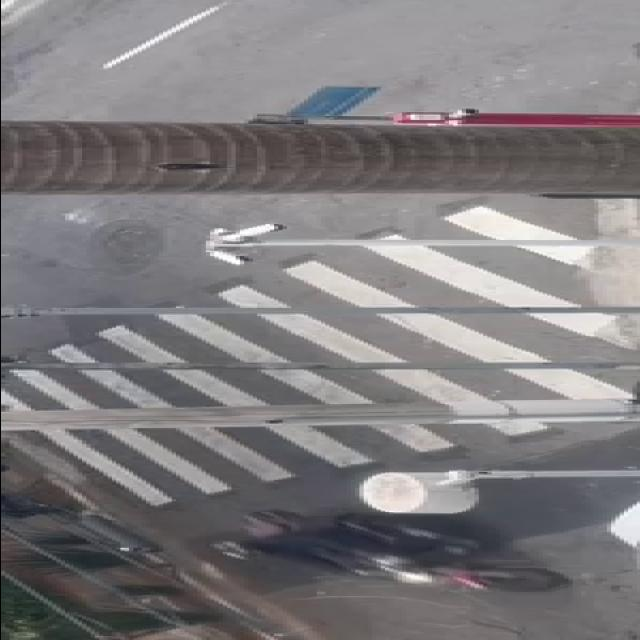motorbike: (230, 506, 544, 588)
